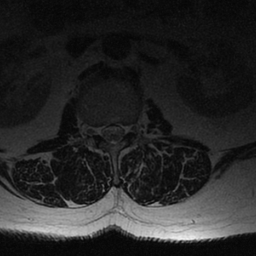CCS_normal: (108, 116, 117, 151)
LFS_stenosis: (126, 116, 135, 139)
LLS_normal: (117, 116, 126, 144)
RFS_normal: (91, 117, 98, 143)
RLS_normal: (98, 117, 108, 143)
